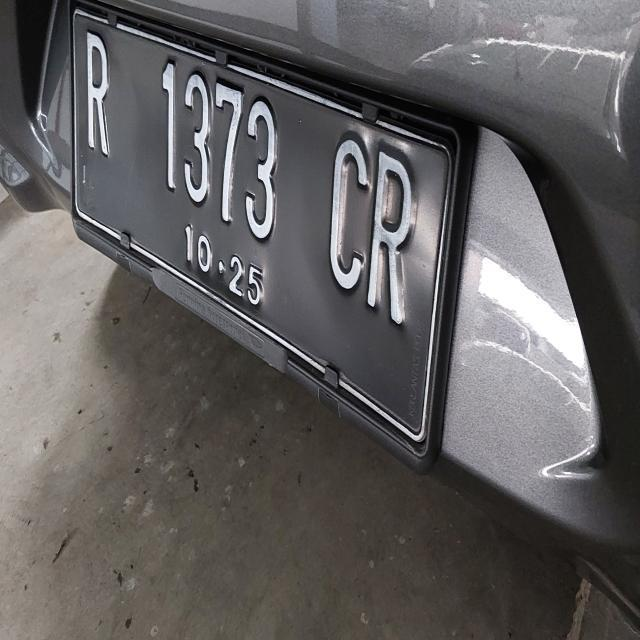1: (150, 53, 188, 208)
3: (243, 74, 283, 252), (176, 58, 216, 218)
7: (209, 61, 248, 240)
C: (318, 117, 370, 333)
R: (366, 131, 422, 343), (78, 26, 124, 180)
